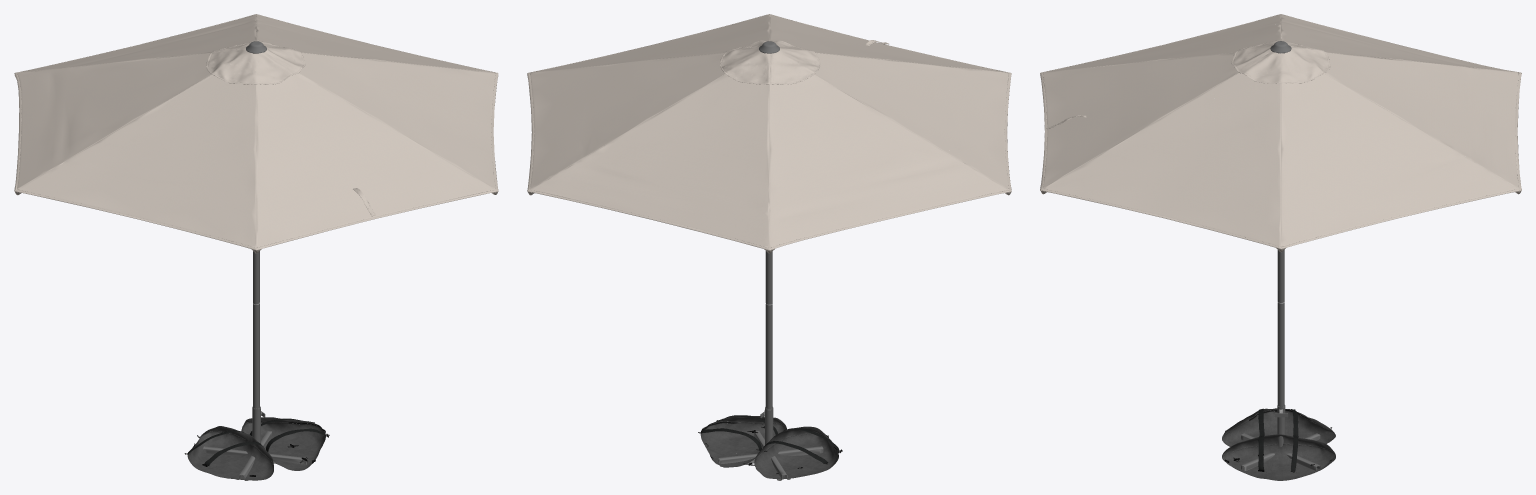
File: joggeso_iggon_parasol_z_podstawa_89576211.glb
3 renders of one model, left to right at view 1: azimuth 30°, elevation 25°; view 2: azimuth 150°, elevation 25°; view 3: azimuth 270°, elevation 25°, orthographic.
Visible parts, largest first — view 1: joggeso_iggon_parasol_z_podstawa_89576211; view 2: joggeso_iggon_parasol_z_podstawa_89576211; view 3: joggeso_iggon_parasol_z_podstawa_89576211.
Part boxes in pixels (box(x1,y1,x2,y2)): joggeso_iggon_parasol_z_podstawa_89576211: box(14, 14, 498, 480); joggeso_iggon_parasol_z_podstawa_89576211: box(527, 14, 1011, 480); joggeso_iggon_parasol_z_podstawa_89576211: box(1040, 14, 1521, 480).
Size of the model in its own units: 3.02 by 2.47 by 2.62.
9 materials, 4 textured.
